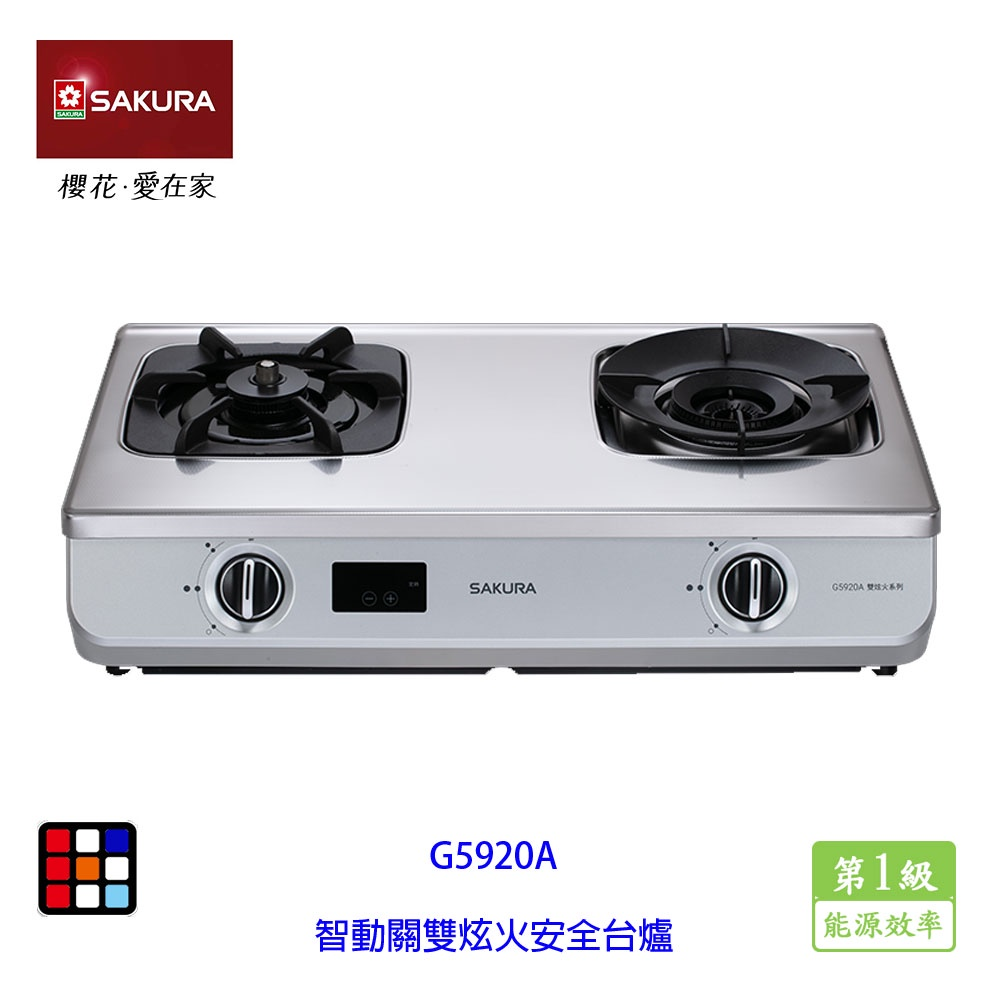gasoven: (53, 315, 945, 690)
